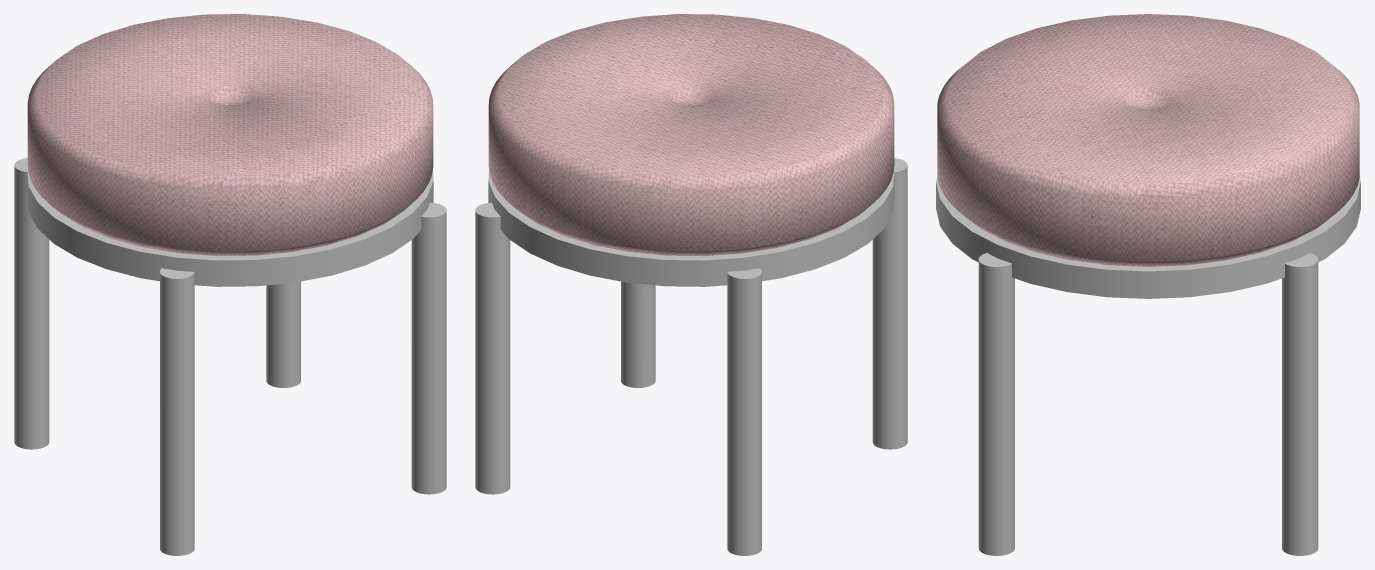
The model's file is furniture_seating_210049.glb.
The picture shows the model from 3 angles, left to right: view 1: azimuth 30°, elevation 25°; view 2: azimuth 150°, elevation 25°; view 3: azimuth 270°, elevation 25°; orthographic projection. The views are drawn at different scales.
Parts seen in each view (by area): view 1: furniture_seating_210049; view 2: furniture_seating_210049; view 3: furniture_seating_210049.
Part boxes in pixels (x1,y1,x2,y2): furniture_seating_210049: (14, 14, 446, 555); furniture_seating_210049: (475, 14, 907, 555); furniture_seating_210049: (936, 14, 1360, 555).
Size of the model in its own units: 0.336 by 0.336 by 0.336.
1 material, 1 textured.
